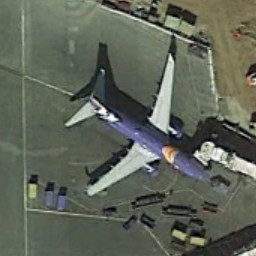Airplane: (44, 40, 220, 222)
